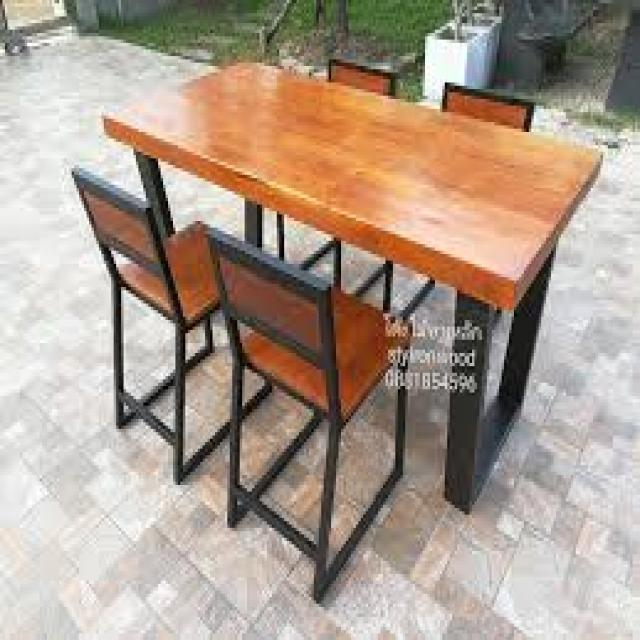table: (98, 41, 608, 306)
